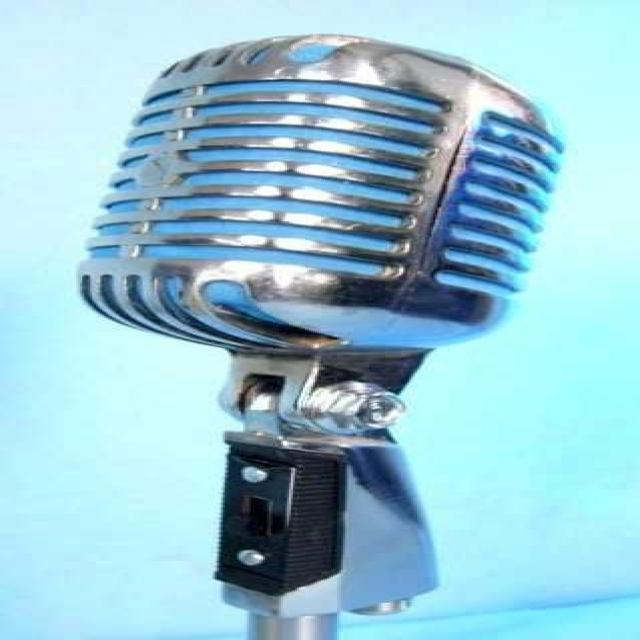microphone: (86, 40, 554, 622)
